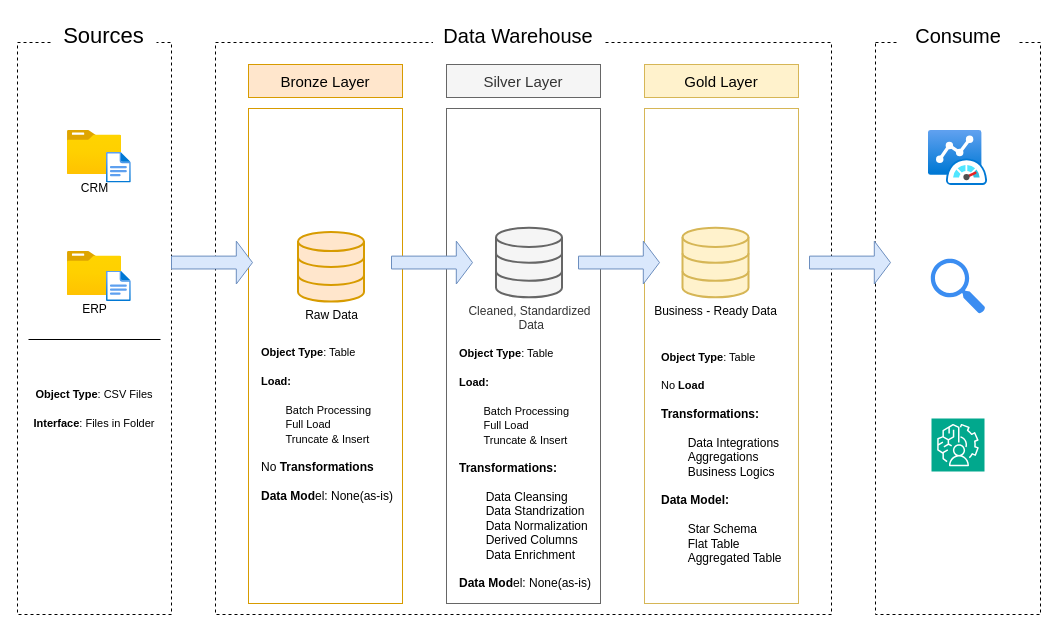
Image size: 1058x640. Some labels were removed from this diagram. The shapes that lost their labels are listed below. From the top down, each one's box as (x1, y1, x2, y2) in pixels, then its label:
(928, 130, 987, 185): BI & Reporting
(930, 258, 985, 313): Ad-Hoc SQL Queries
(930, 418, 984, 472): Machine learning
